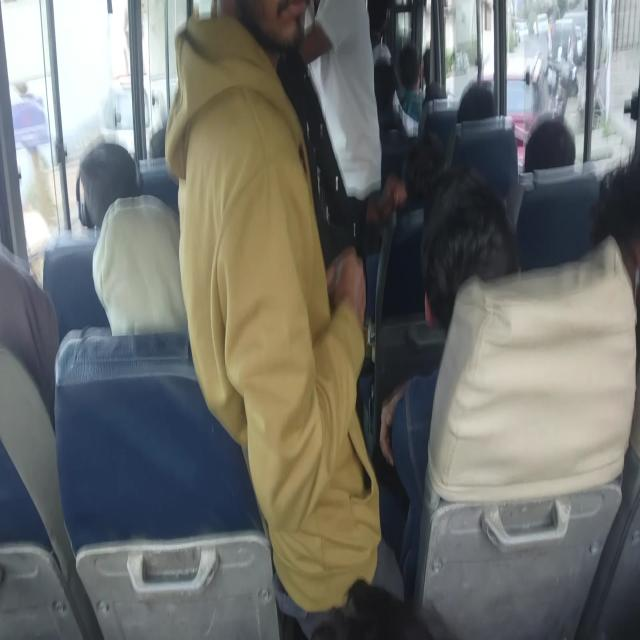person: (164, 0, 396, 627), (378, 165, 520, 592), (393, 43, 425, 138)
